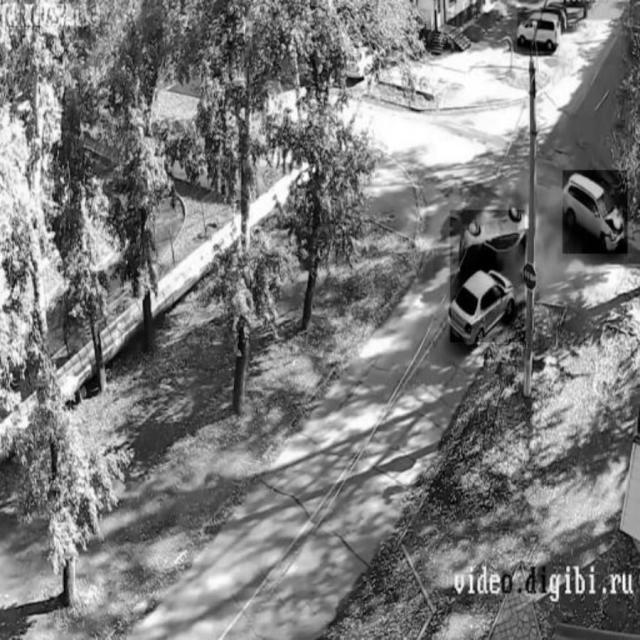accident: (450, 210, 526, 342)
vehicle: (562, 171, 628, 254), (518, 9, 560, 51)
